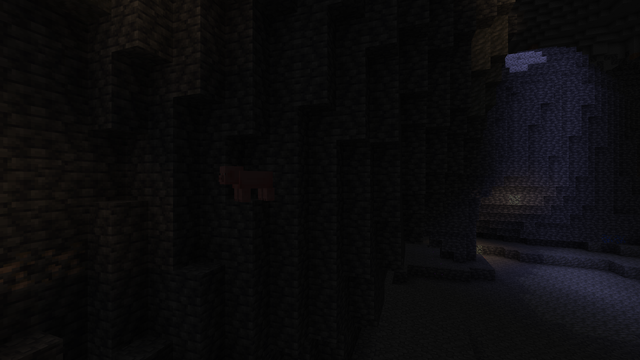cochons: (230, 169, 273, 201)
